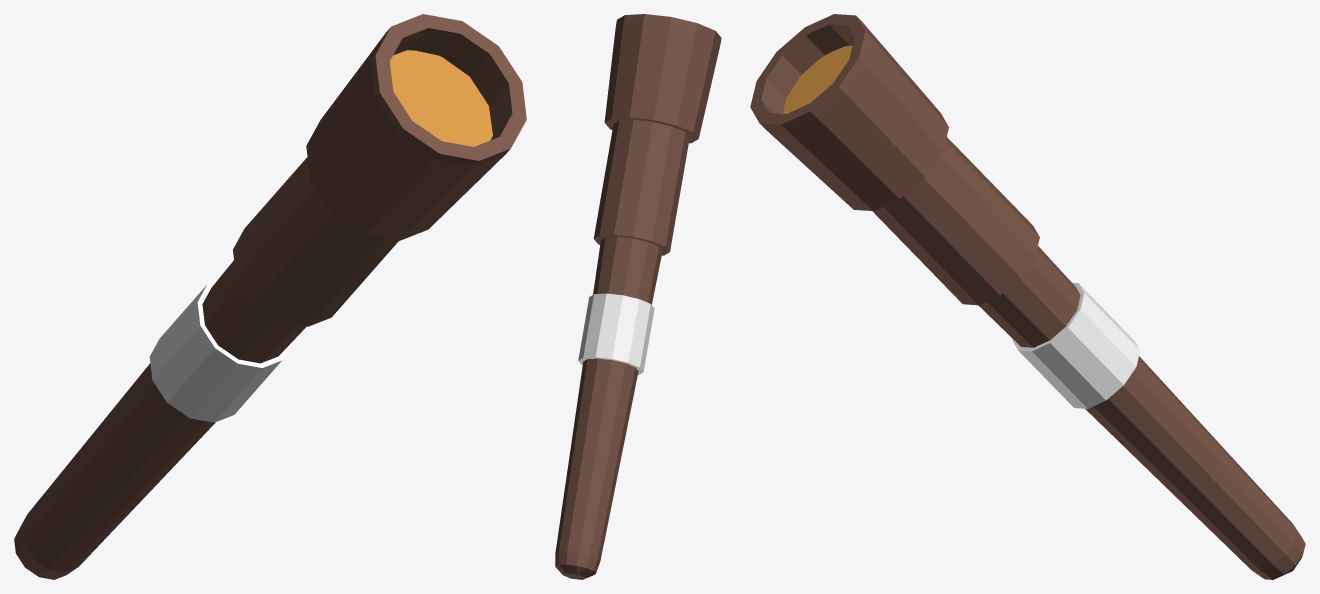
3 views of the same model, side by side, from view 1: azimuth 30°, elevation 25°; view 2: azimuth 150°, elevation 25°; view 3: azimuth 270°, elevation 25° (orthographic). The views are drawn at different scales.
Visible parts, largest first — view 1: mesh_179153926, mesh_372462014, mesh_1038092187; view 2: mesh_179153926, mesh_372462014; view 3: mesh_179153926, mesh_372462014, mesh_1038092187.
Boxes of the visible parts, <box> form: mesh_179153926: <box>14,14,526,579</box>; mesh_372462014: <box>149,280,291,422</box>; mesh_1038092187: <box>390,50,492,146</box>; mesh_179153926: <box>555,14,721,579</box>; mesh_372462014: <box>578,293,654,374</box>; mesh_179153926: <box>750,14,1305,579</box>; mesh_372462014: <box>1012,282,1140,408</box>; mesh_1038092187: <box>783,45,852,113</box>.
Size of the model in its own units: 24.77 by 72.5 by 60.92.
